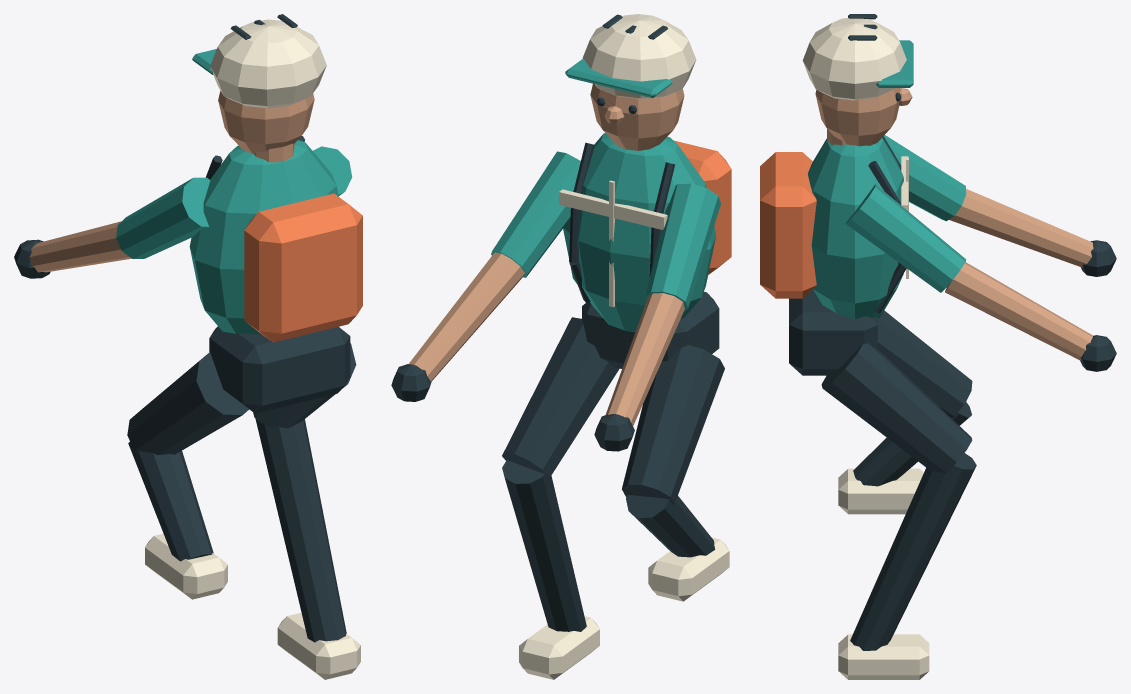
File: rider.glb
The picture shows the model from 3 angles, left to right: view 1: azimuth 30°, elevation 25°; view 2: azimuth 150°, elevation 25°; view 3: azimuth 270°, elevation 25°; orthographic projection. The views are drawn at different scales.
Parts seen in each view (by area): view 1: rider.Torso_Orange, rider.Torso_Teal, rider.Knee_1_Dark, rider.Root_Dark, rider.Head_Cream, rider.Hip_-1_Dark, rider.Knee_-1_Dark, rider.Shoulder_L_Teal, rider.Head_Skin, rider.Elbow_-1_Skin, rider.Knee_1_Cream, rider.Knee_-1_Cream (+3 smaller); view 2: rider.Torso_Teal, rider.Hip_-1_Dark, rider.Hip_1_Dark, rider.Knee_1_Dark, rider.Head_Cream, rider.Shoulder_L_Teal, rider.Shoulder_R_Teal, rider.Elbow_1_Skin, rider.Elbow_-1_Skin, rider.Head_Skin, rider.Root_Dark, rider.Knee_-1_Dark (+8 smaller); view 3: rider.Torso_Teal, rider.Hip_1_Dark, rider.Knee_1_Dark, rider.Torso_Orange, rider.Head_Cream, rider.Shoulder_R_Teal, rider.Root_Dark, rider.Elbow_1_Skin, rider.Elbow_-1_Skin, rider.Hip_-1_Dark, rider.Head_Skin, rider.Knee_1_Cream (+7 smaller).
Boxes of the visible parts, x1,y1,x2,y2 form: rider.Torso_Orange: (244,193,362,342); rider.Torso_Teal: (189,140,338,334); rider.Knee_1_Dark: (255,419,346,642); rider.Root_Dark: (209,326,350,413); rider.Head_Cream: (210,19,326,108); rider.Hip_-1_Dark: (127,352,248,455); rider.Knee_-1_Dark: (128,442,213,561); rider.Shoulder_L_Teal: (116,177,210,258); rider.Head_Skin: (218,90,314,162); rider.Elbow_-1_Skin: (29,221,131,272); rider.Knee_1_Cream: (277,612,360,679); rider.Knee_-1_Cream: (145,533,227,599); rider.Torso_Teal: (563,133,715,332); rider.Hip_-1_Dark: (622,344,724,504); rider.Hip_1_Dark: (502,317,619,479); rider.Knee_1_Dark: (502,460,586,631); rider.Head_Cream: (582,14,696,98); rider.Shoulder_L_Teal: (645,183,720,311); rider.Shoulder_R_Teal: (491,151,580,277); rider.Elbow_1_Skin: (408,252,524,380); rider.Elbow_-1_Skin: (605,293,684,425); rider.Head_Skin: (590,84,684,150); rider.Root_Dark: (582,291,719,368); rider.Knee_-1_Dark: (626,494,715,557); rider.Torso_Teal: (808,137,903,319); rider.Hip_1_Dark: (821,343,972,473); rider.Knee_1_Dark: (850,453,976,650); rider.Torso_Orange: (760,152,816,298); rider.Head_Cream: (802,18,906,100); rider.Shoulder_R_Teal: (845,184,966,292); rider.Root_Dark: (789,289,877,375); rider.Elbow_1_Skin: (945,262,1093,360); rider.Elbow_-1_Skin: (949,189,1093,267); rider.Hip_-1_Dark: (878,310,972,417); rider.Head_Skin: (815,88,912,146); rider.Knee_1_Cream: (838,634,929,679).
Size of the model in its own units: 0.684 by 1.77 by 0.922.
